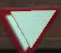Give way: (1, 4, 57, 49)
